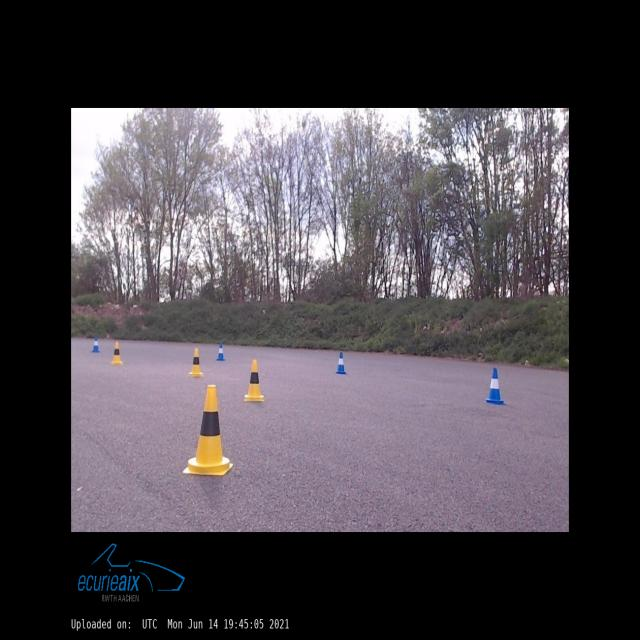blue_cone: (484, 368, 506, 405), (336, 352, 346, 374), (216, 343, 225, 360), (91, 337, 100, 352)
yellow_cone: (183, 386, 233, 475), (244, 359, 264, 401), (190, 348, 203, 376), (111, 342, 123, 364)
